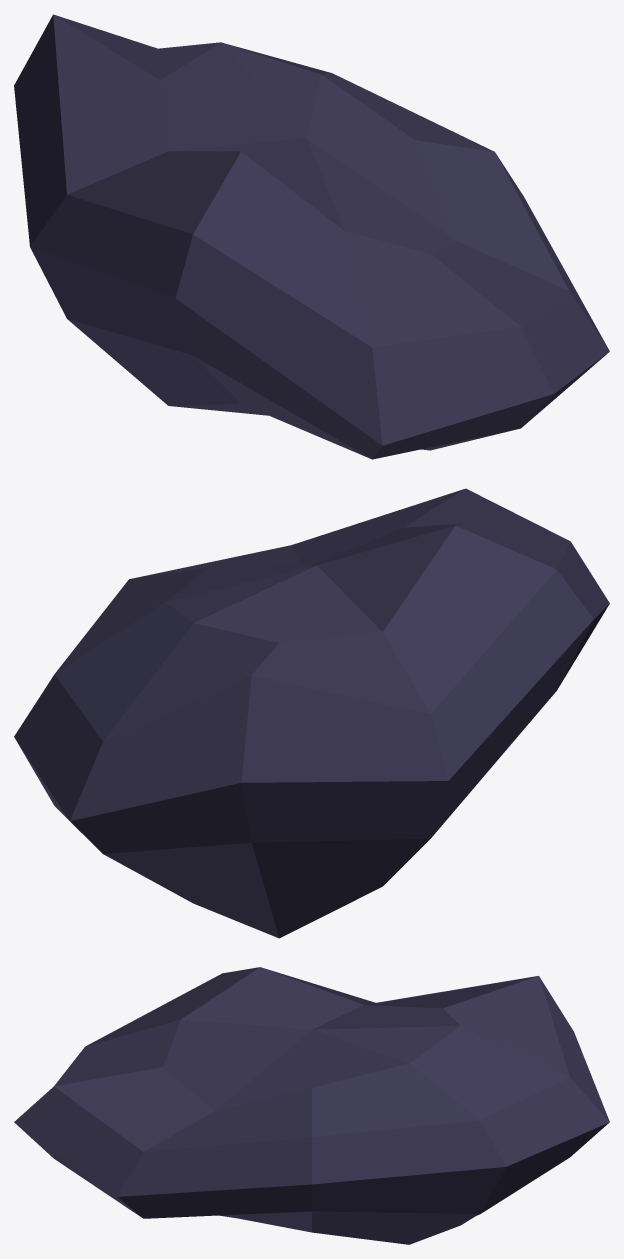
Rendered from Clouds_Small_Night.fbx.
3 views of the same model, one above another, from view 1: azimuth 30°, elevation 25°; view 2: azimuth 150°, elevation 25°; view 3: azimuth 270°, elevation 25° (orthographic). The views are drawn at different scales.
Parts seen in each view (by area): view 1: pasted__pSphere1; view 2: pasted__pSphere1; view 3: pasted__pSphere1.
Boxes of the visible parts, left/top/right/bottom form: pasted__pSphere1: left=14, top=14, right=609, bottom=459; pasted__pSphere1: left=14, top=488, right=609, bottom=938; pasted__pSphere1: left=14, top=967, right=609, bottom=1244.
Size of the model in its own units: 9.79 by 7.34 by 16.87.
